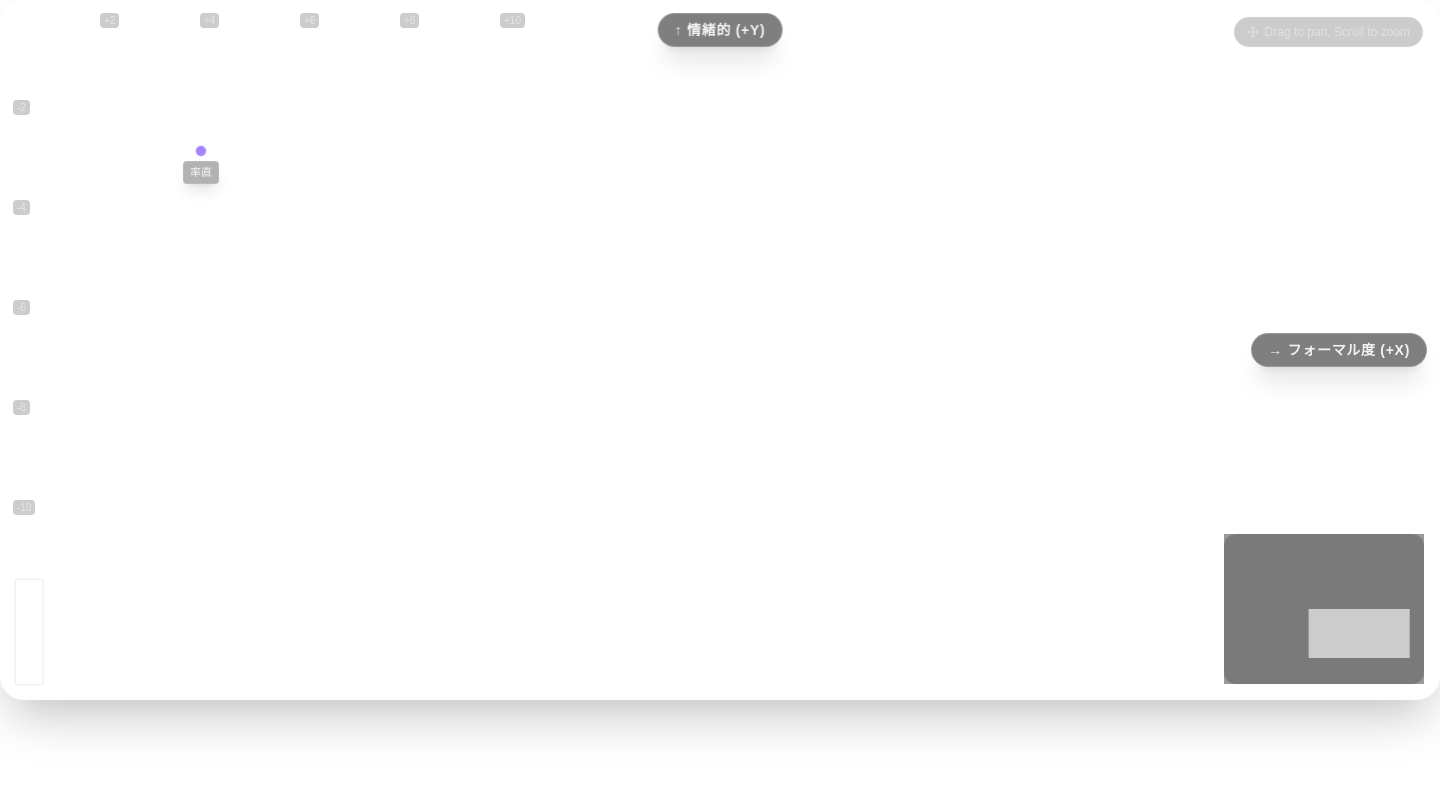
Test case: NuanceMap — tooltip (H-01..H-10, H-13) › opens on click, so touch works too
Click the button named "率直" at x=201, y=151, box [187,137,215,165]
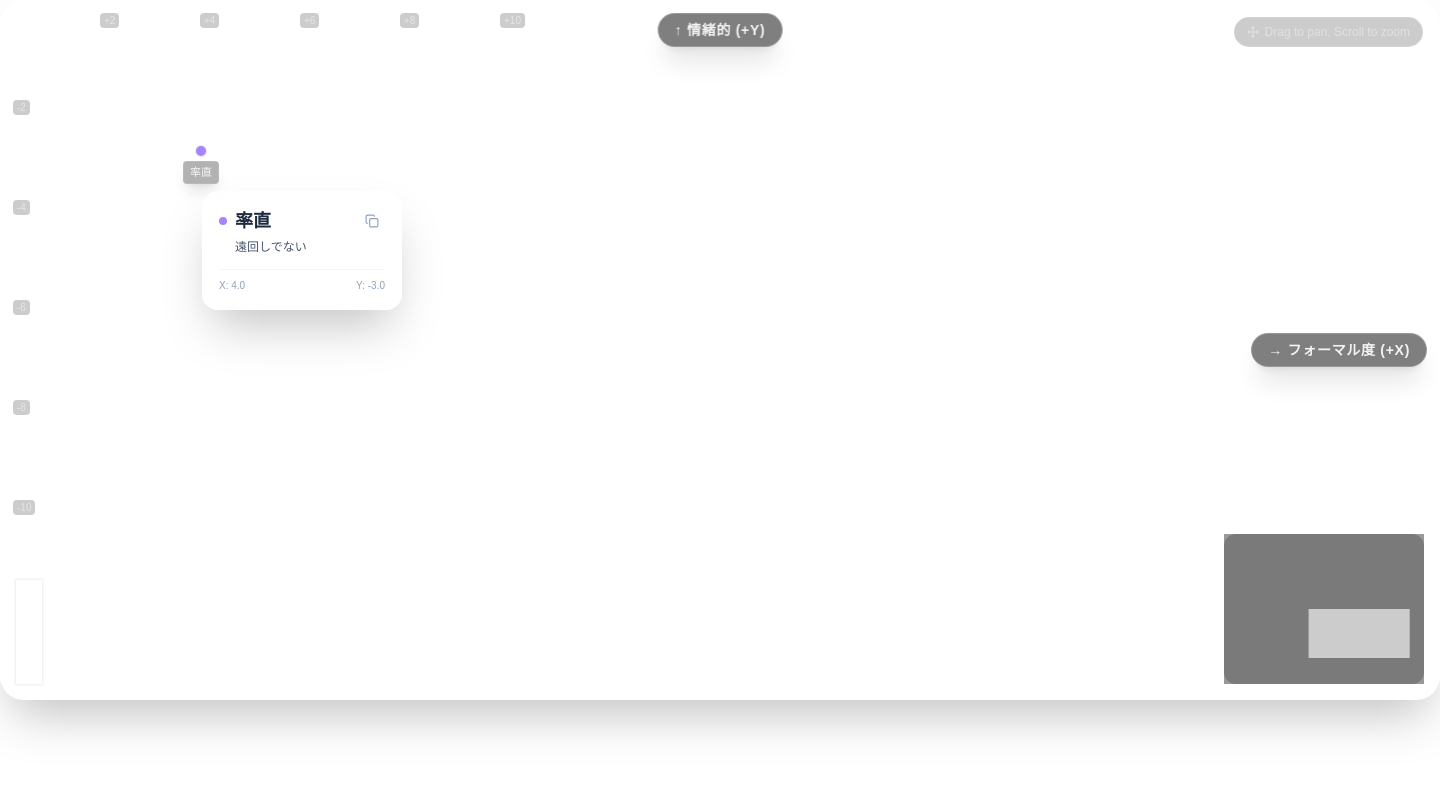
Expected: the element with test id "word-tooltip" is shown, [202,190,402,310]
